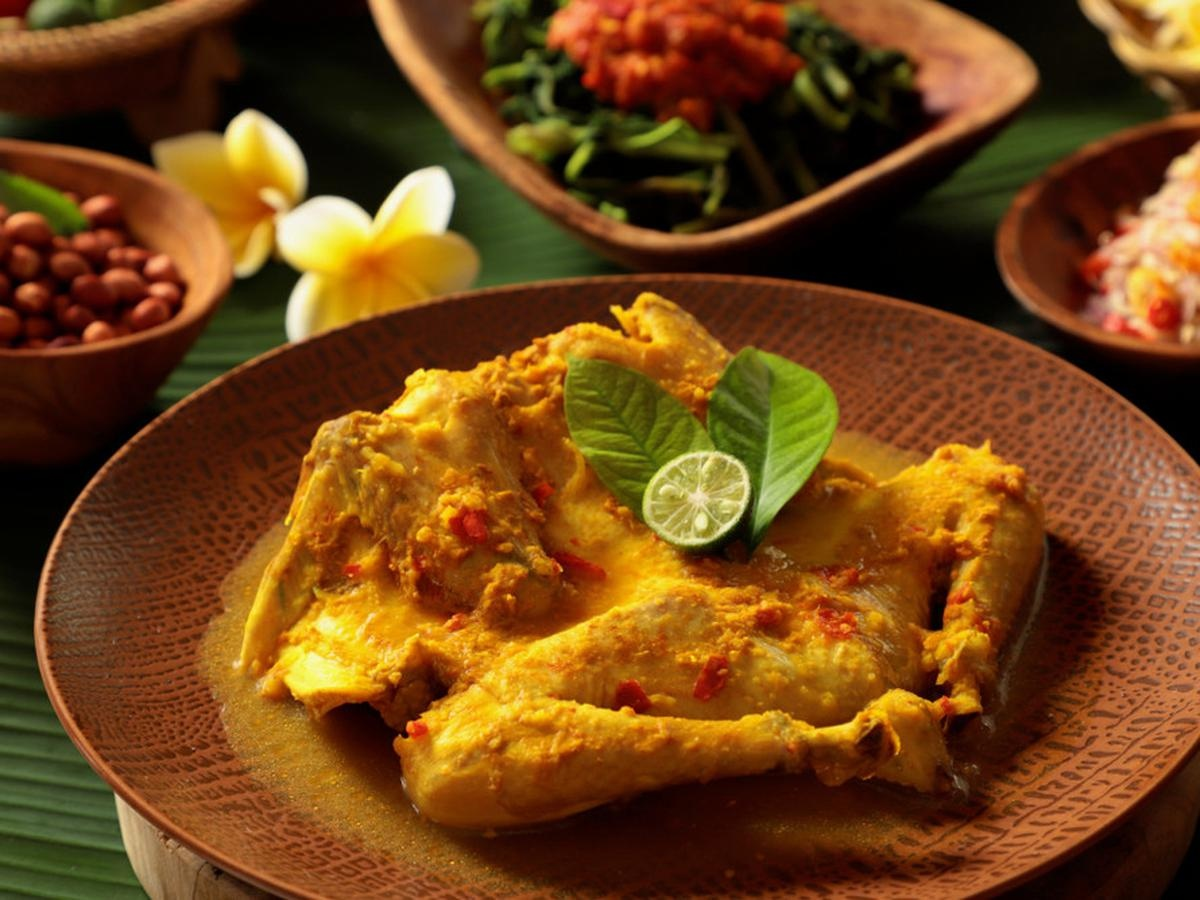ayam_betutu: (235, 557, 1049, 834)
